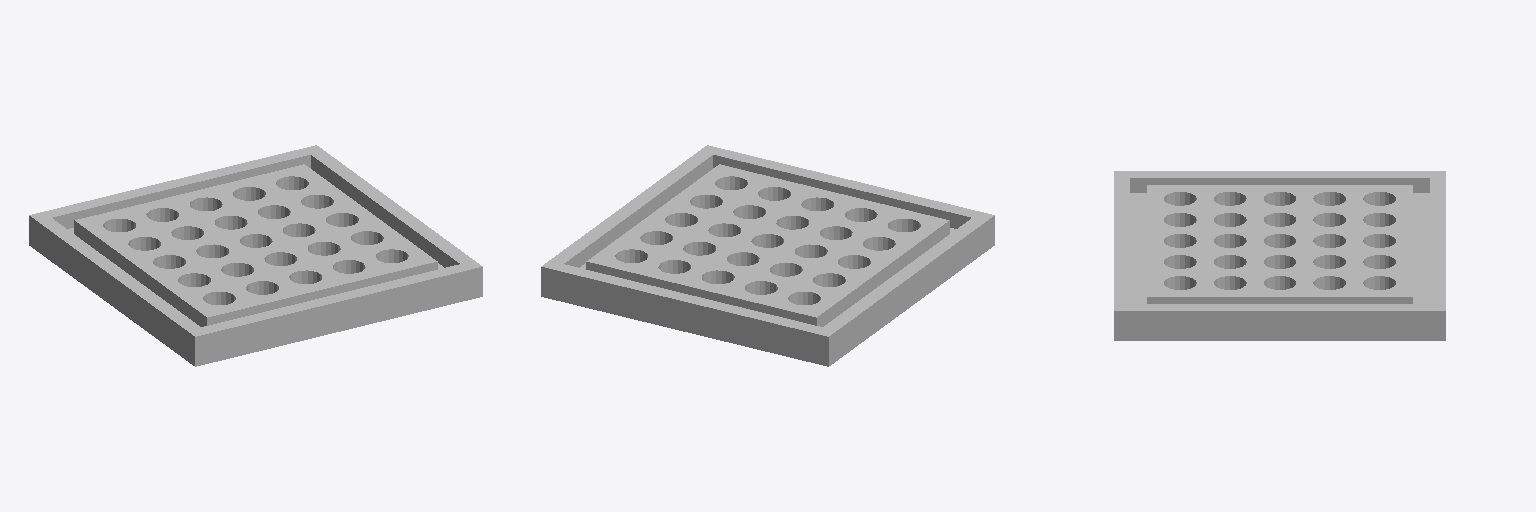
File: Spikes tile.obj
The picture shows the model from 3 angles: view 1: azimuth 30°, elevation 25°; view 2: azimuth 150°, elevation 25°; view 3: azimuth 270°, elevation 25°; orthographic projection.
Visible parts, largest first — view 1: obj_0.007; view 2: obj_0.007; view 3: obj_0.007.
Part boxes in pixels (left/top/right/bottom): obj_0.007: left=29, top=145, right=482, bottom=366; obj_0.007: left=541, top=145, right=994, bottom=366; obj_0.007: left=1114, top=171, right=1445, bottom=340.
Size of the model in its own units: 20 by 2 by 20.